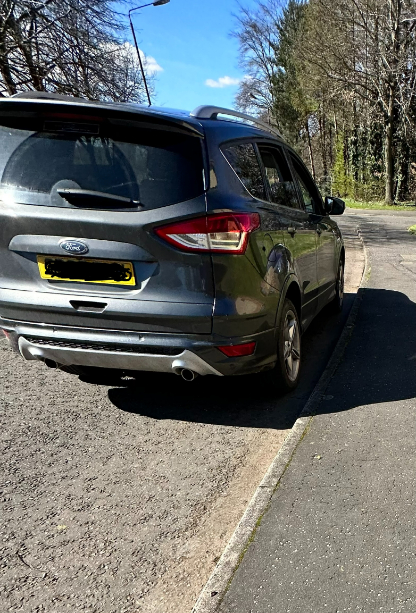car: (2, 59, 349, 417)
